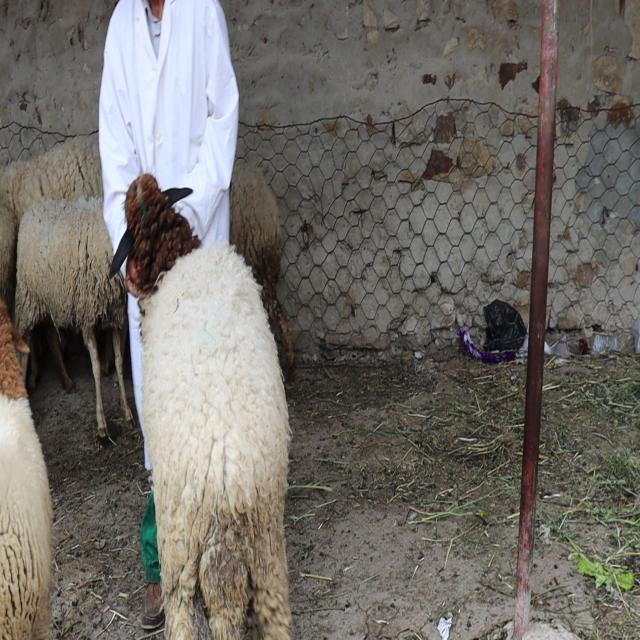Score_3: (109, 174, 291, 639)
